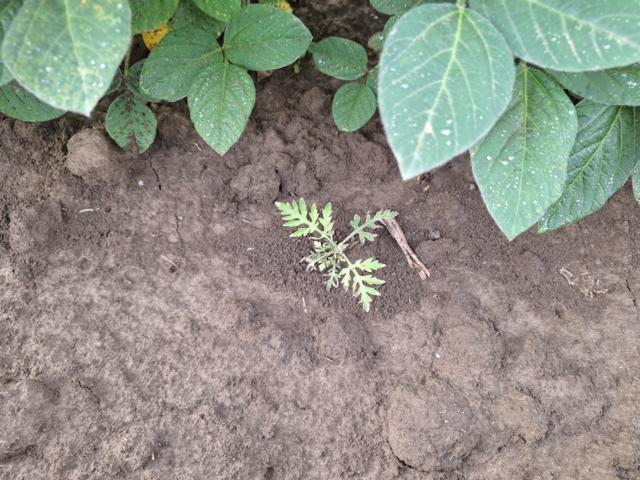bad weed: (260, 184, 433, 317)
